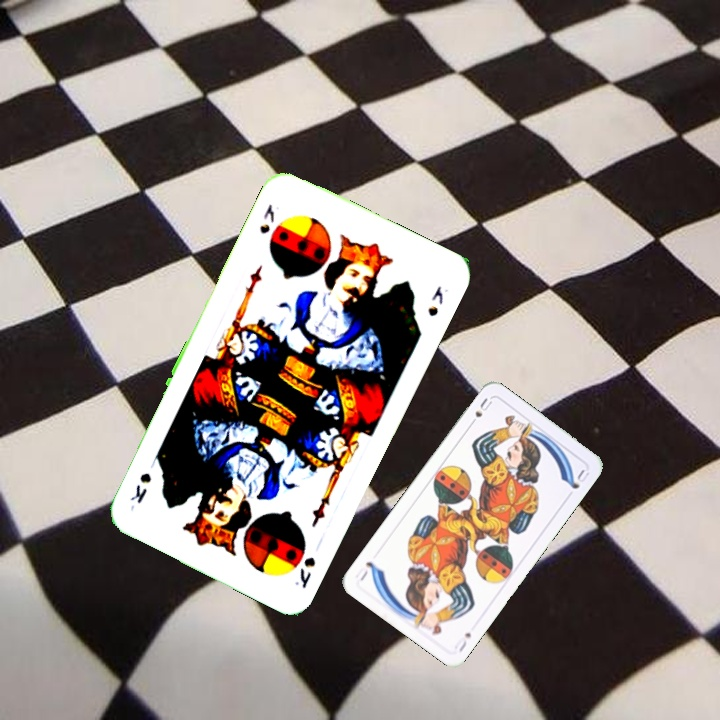SK: (290, 552, 319, 591), (255, 200, 277, 237)
SU: (465, 394, 495, 429), (450, 628, 473, 655)
